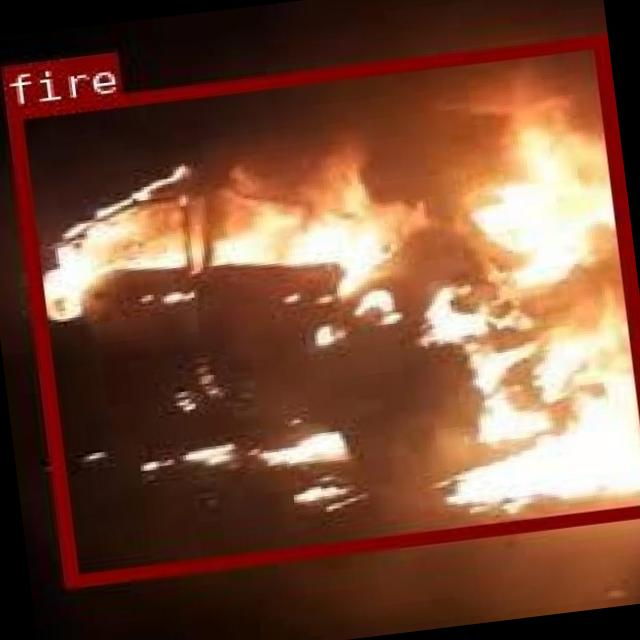fire: (3, 33, 640, 584)
